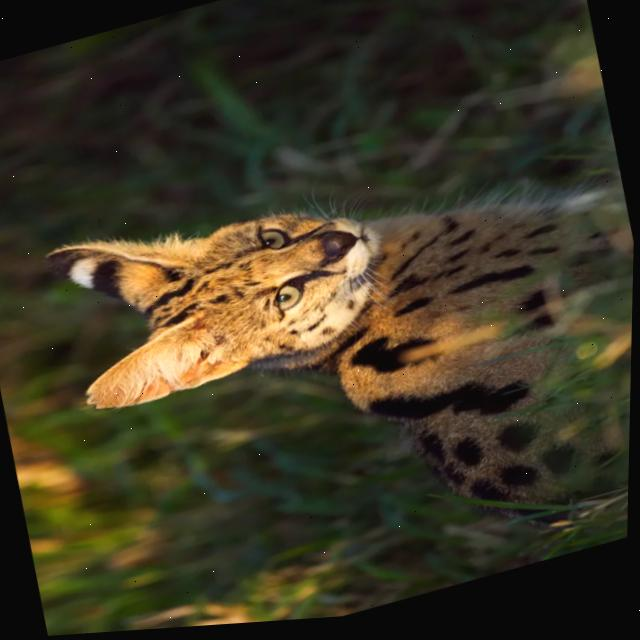Savannah: (29, 100, 638, 638)
